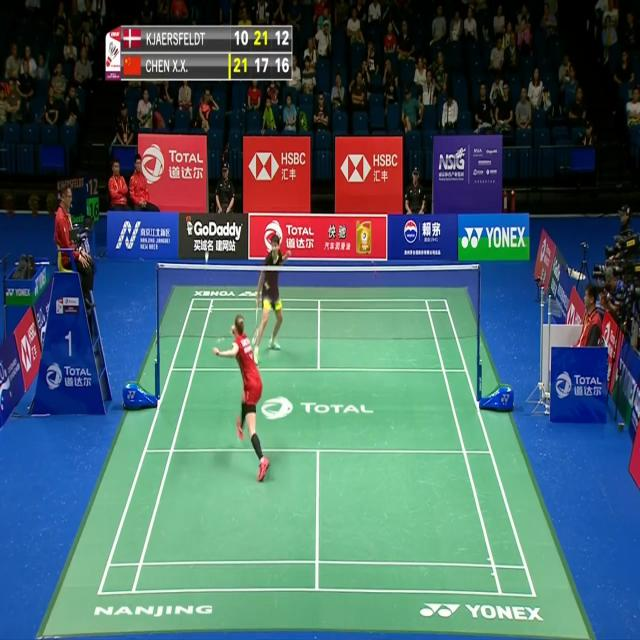Player1: (207, 312, 275, 484)
Player2: (252, 230, 292, 364)
